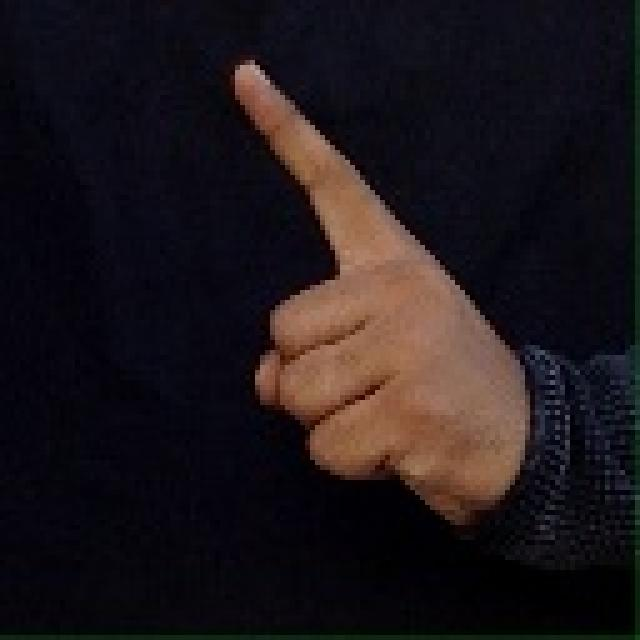Y: (210, 45, 535, 530)
